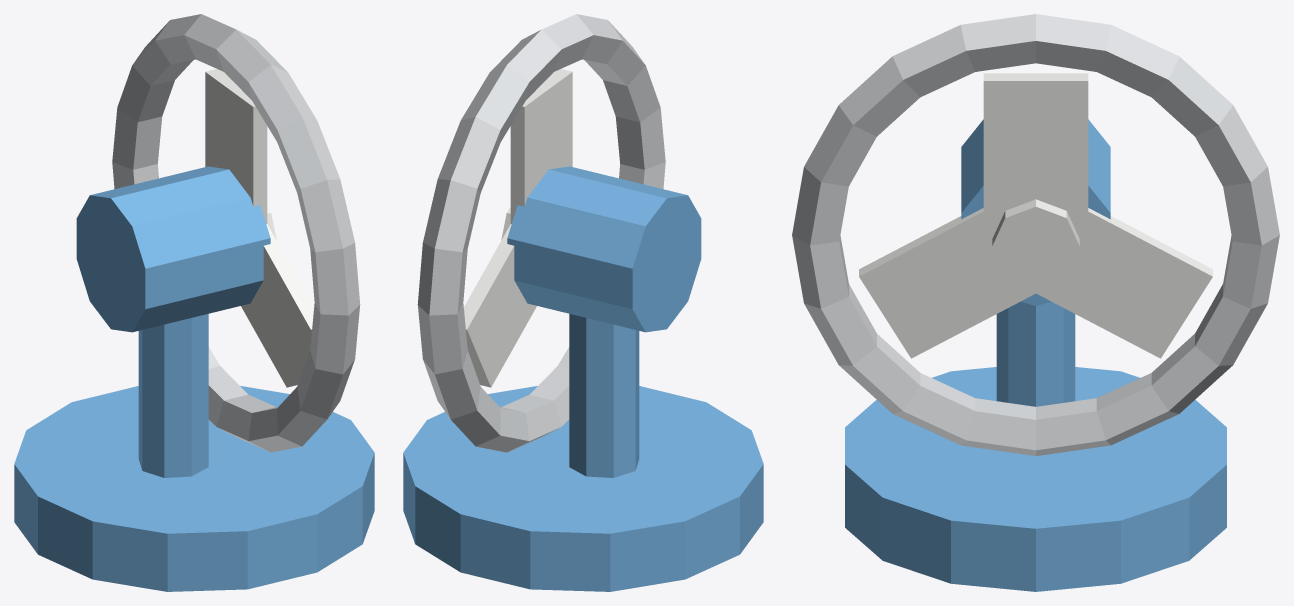
Rendered from desk_fan.glb.
3 views of the same model, side by side, from view 1: azimuth 30°, elevation 25°; view 2: azimuth 150°, elevation 25°; view 3: azimuth 270°, elevation 25° (orthographic). The views are drawn at different scales.
Bounding box in the file's own units: 0.09 × 0.131 × 0.112.
